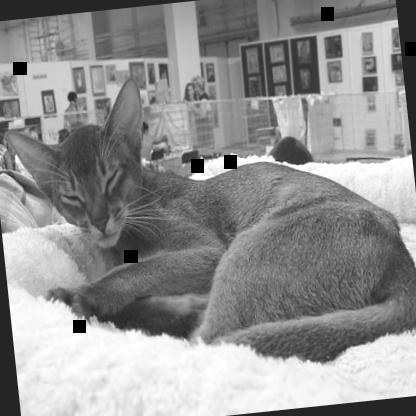cat: (2, 48, 415, 396)
